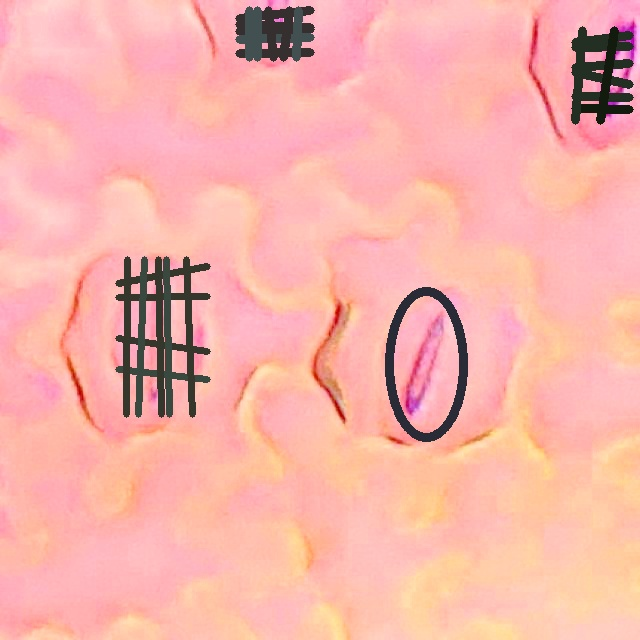open: (115, 256, 210, 417), (383, 287, 469, 442), (571, 26, 633, 124), (235, 6, 314, 61)
